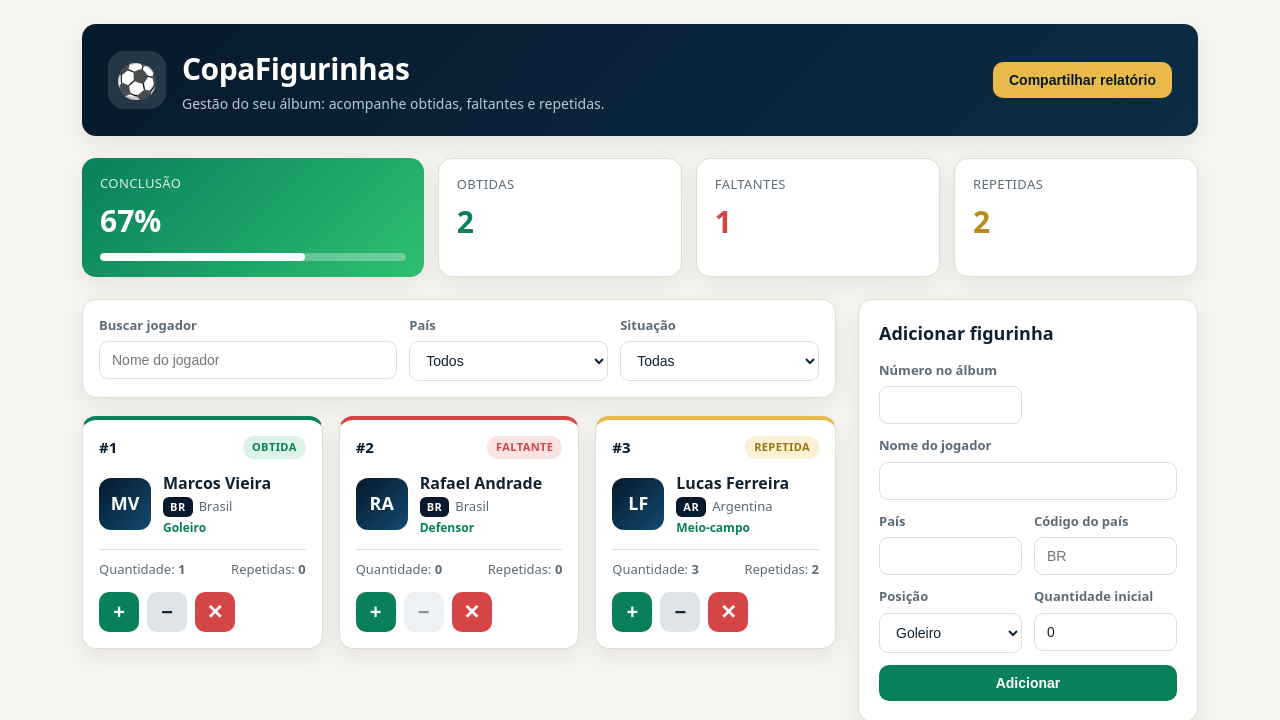
Test case: filtro de faltantes › exibe apenas as figurinhas faltantes
This screenshot has width=1280, height=720.
Select "Faltantes" in the dropdown labelled "Situação" at [720, 361], box [620,341,819,381]
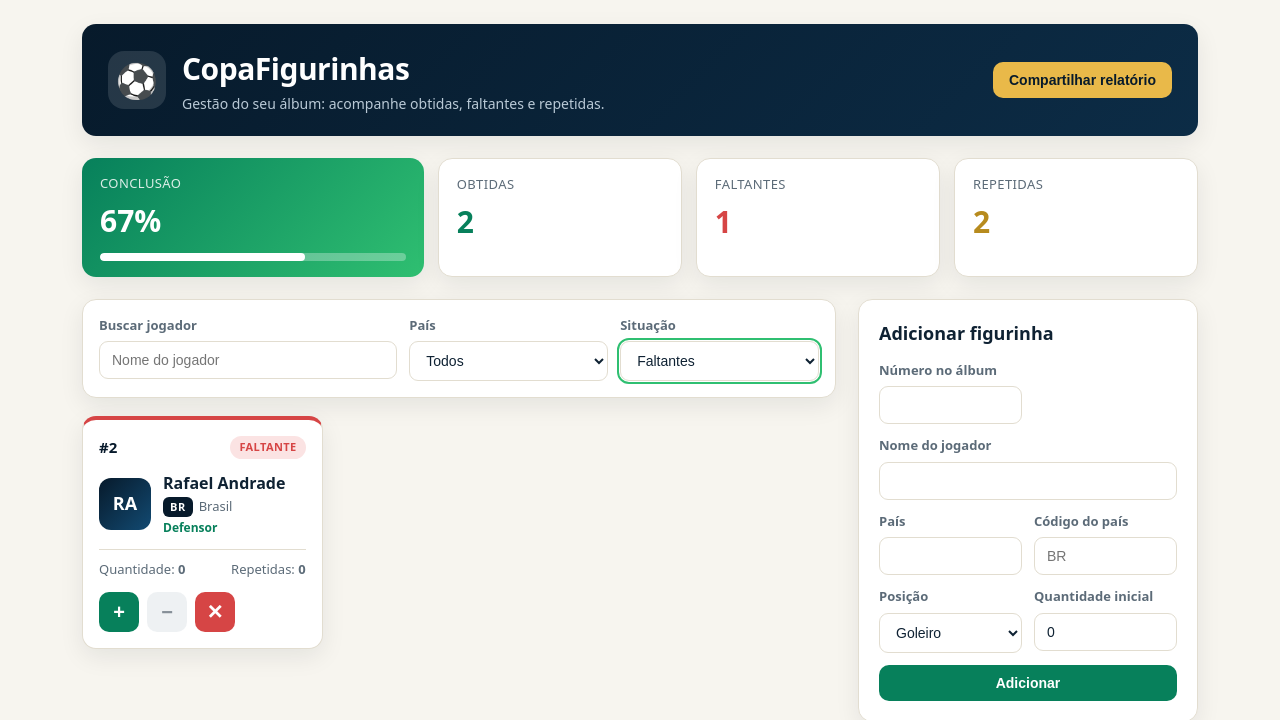
Check: the heading "Rafael Andrade" is shown, box [163,470,286,494]
Check: the heading "Marcos Vieira" is gone
